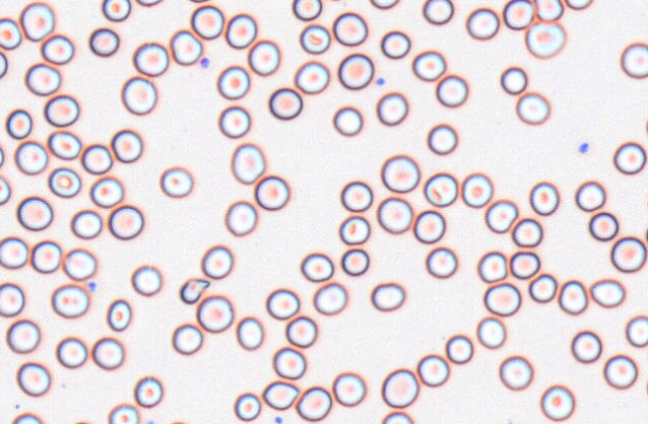PLT: (199, 56, 213, 69), (577, 141, 590, 154), (85, 280, 98, 293), (374, 77, 386, 86), (274, 416, 286, 424), (145, 418, 159, 424)
RBC: (380, 154, 420, 193), (524, 20, 565, 58), (381, 368, 419, 408), (230, 142, 265, 184), (196, 294, 233, 332), (19, 1, 54, 41), (121, 75, 156, 115), (376, 196, 412, 234), (295, 385, 332, 421), (337, 53, 373, 90), (539, 384, 575, 421), (51, 283, 89, 318), (107, 204, 143, 240), (610, 236, 646, 272), (16, 195, 53, 230), (132, 41, 169, 76), (483, 282, 521, 316), (254, 174, 289, 210), (498, 355, 533, 390), (603, 354, 638, 389), (332, 11, 367, 46), (423, 172, 458, 207), (24, 62, 60, 96), (247, 39, 280, 76), (5, 319, 40, 353), (16, 361, 50, 396), (14, 140, 48, 175), (190, 4, 224, 39), (515, 91, 550, 125), (332, 371, 366, 406), (294, 60, 329, 94), (169, 29, 202, 65), (224, 200, 257, 236), (43, 94, 79, 127), (460, 172, 493, 208), (225, 12, 257, 49), (484, 199, 518, 233), (216, 65, 250, 99), (312, 282, 347, 315), (268, 87, 302, 120), (91, 336, 124, 370), (416, 353, 449, 387), (465, 7, 499, 40), (272, 346, 306, 379), (376, 91, 408, 126), (411, 49, 446, 81), (265, 287, 300, 319), (201, 244, 233, 279), (435, 74, 468, 107), (613, 141, 646, 174), (413, 209, 445, 243), (570, 329, 602, 363), (159, 166, 193, 198), (111, 128, 142, 163), (558, 279, 588, 315), (63, 248, 96, 280), (340, 180, 373, 212), (218, 105, 250, 138), (89, 176, 123, 207), (40, 33, 74, 64), (47, 167, 81, 198), (370, 281, 405, 311), (589, 278, 625, 307), (55, 336, 87, 368), (285, 315, 317, 347), (425, 246, 457, 278), (130, 264, 162, 296), (30, 240, 61, 273), (47, 130, 81, 160), (529, 181, 559, 215), (171, 323, 203, 354), (574, 180, 606, 211), (338, 214, 370, 245), (133, 375, 163, 408), (476, 316, 506, 349), (300, 252, 333, 282), (235, 316, 264, 350), (620, 42, 647, 78), (81, 143, 112, 174), (332, 105, 363, 136), (299, 23, 330, 54), (502, 0, 534, 30), (70, 209, 102, 239), (477, 250, 507, 282), (427, 123, 457, 154), (511, 217, 542, 247), (0, 236, 28, 269), (588, 211, 618, 241), (509, 250, 540, 279), (88, 27, 119, 56), (0, 282, 25, 317), (528, 273, 557, 303), (380, 30, 410, 59), (445, 334, 473, 364), (5, 108, 32, 139), (106, 298, 131, 331), (340, 248, 369, 276), (233, 392, 261, 421), (422, 0, 453, 25), (500, 66, 527, 94), (625, 315, 648, 347), (0, 17, 21, 49), (107, 403, 139, 423), (533, 0, 563, 21), (101, 0, 131, 21), (292, 0, 322, 20), (381, 410, 413, 423), (11, 412, 43, 423), (0, 175, 10, 205), (564, 0, 594, 10), (368, 0, 400, 9), (135, 0, 163, 7), (0, 51, 7, 78), (70, 420, 94, 424), (0, 144, 4, 168), (645, 370, 648, 400), (167, 420, 187, 424), (645, 114, 648, 140), (186, 0, 212, 3), (645, 222, 648, 247), (645, 187, 648, 211)
Schistocyte: (262, 381, 300, 412), (177, 278, 211, 306)
